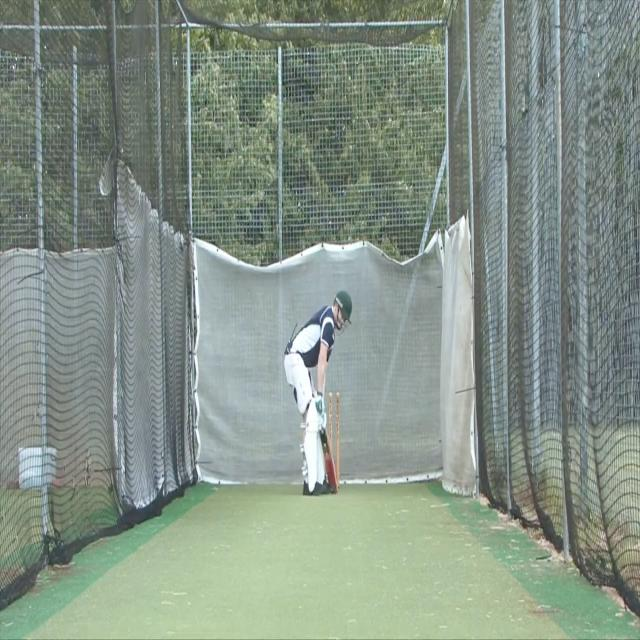batsman: (282, 288, 354, 498)
